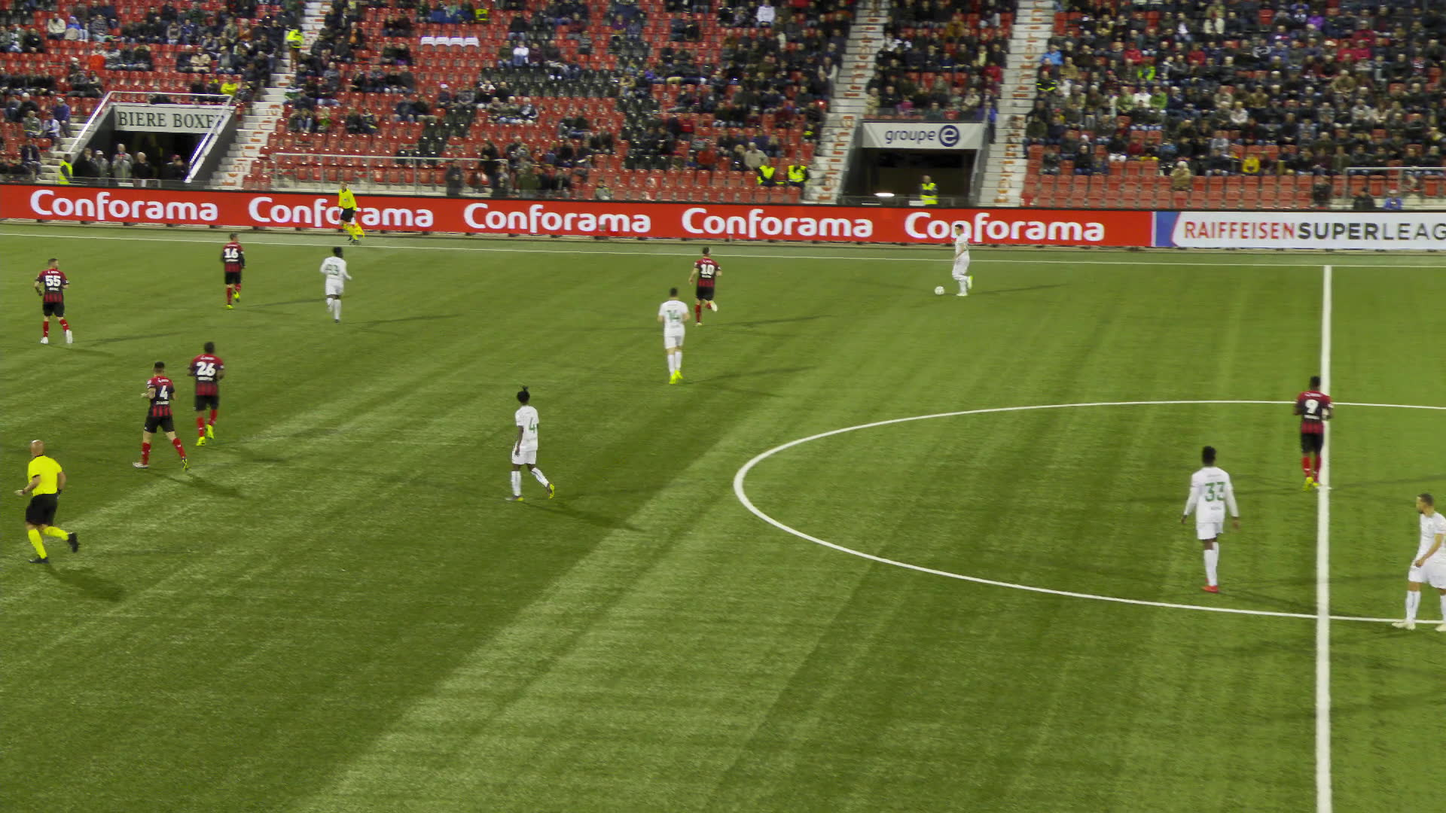ball: (934, 286, 943, 294)
player: (1181, 446, 1240, 592), (1390, 492, 1441, 629), (132, 362, 192, 468), (506, 384, 551, 501), (1292, 376, 1332, 489), (186, 340, 223, 445), (32, 258, 71, 343), (656, 285, 687, 383), (317, 246, 352, 324), (686, 246, 719, 327), (944, 222, 972, 295), (221, 230, 244, 309)
referee: (14, 436, 75, 562), (338, 178, 362, 243)
